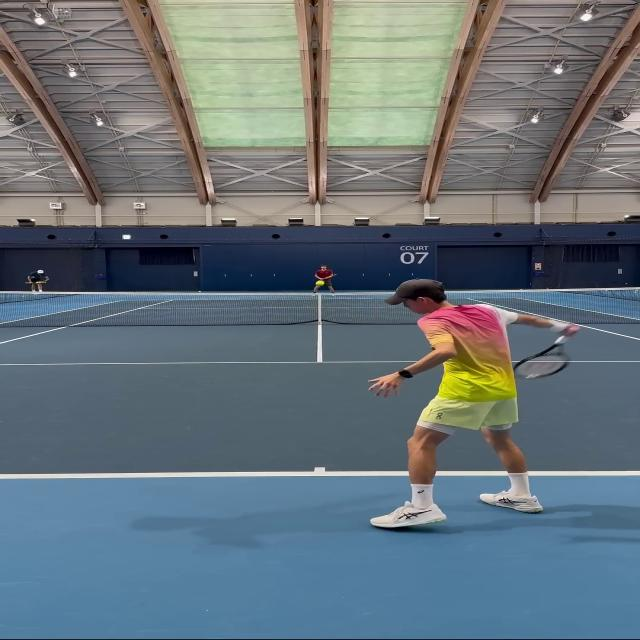tennis_ball: (318, 282, 322, 285)
